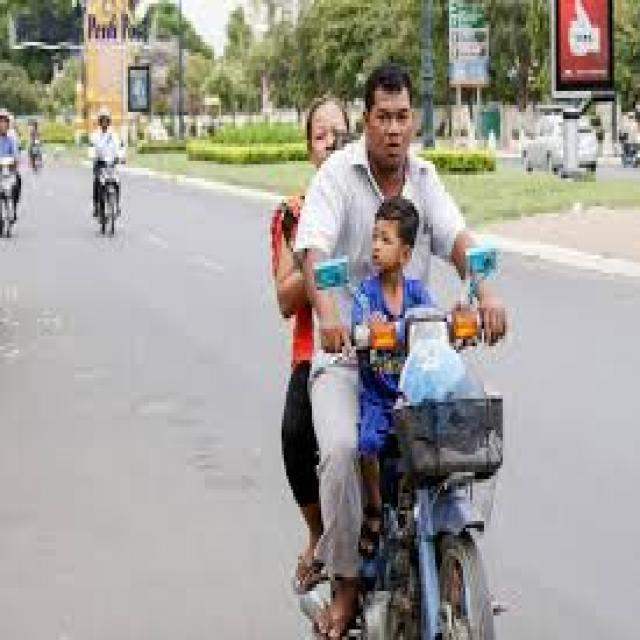No helmet: (370, 64, 436, 185)
